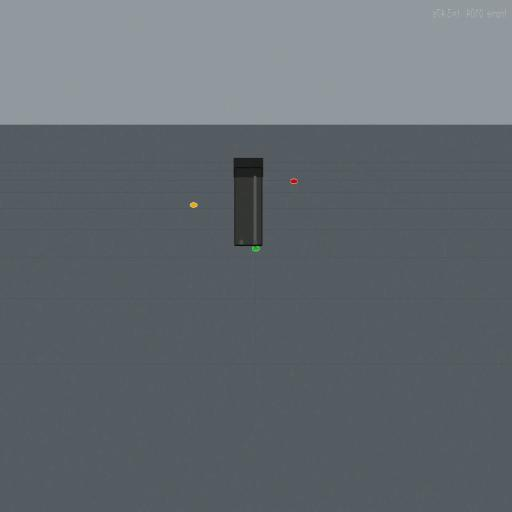bin: (233, 157, 264, 247)
